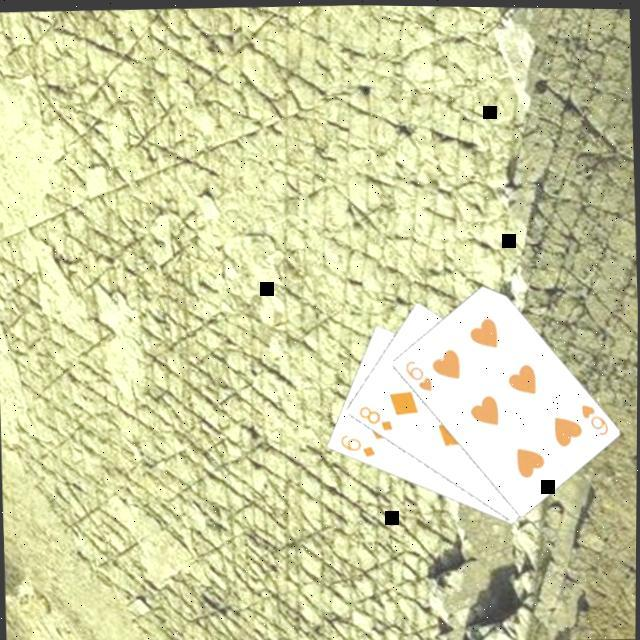6D: (336, 429, 378, 460)
6H: (576, 399, 610, 438), (401, 356, 434, 394)
8D: (354, 401, 396, 434)
